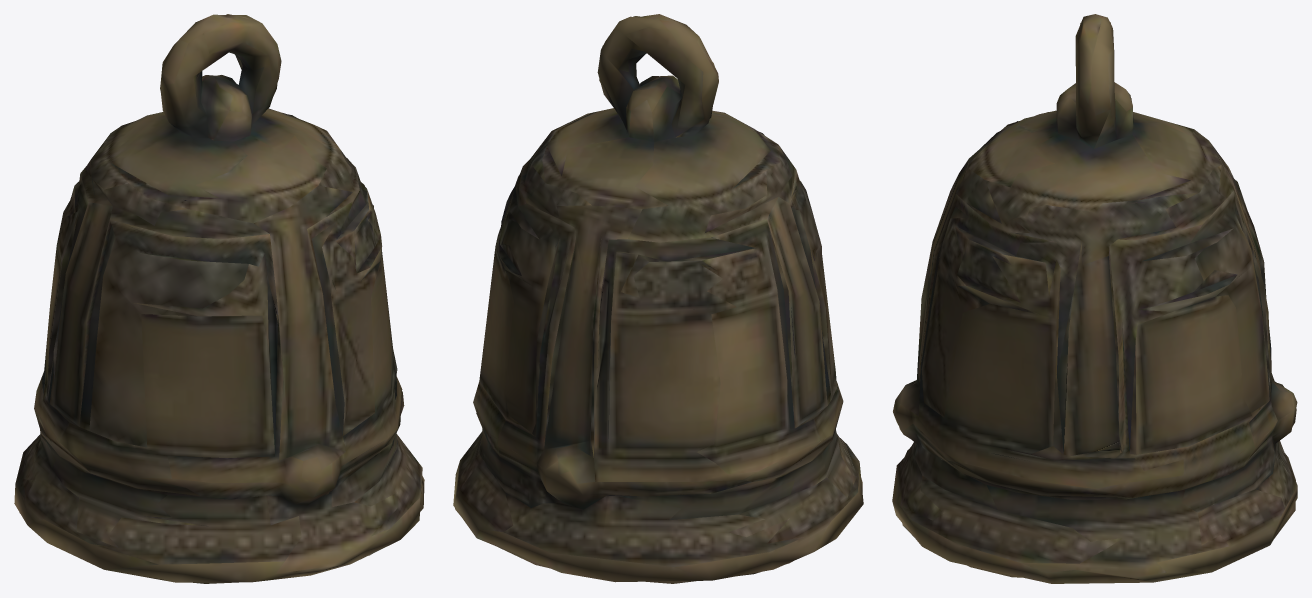
The model's file is chuong.glb.
3 views of the same model, side by side, from view 1: azimuth 30°, elevation 25°; view 2: azimuth 150°, elevation 25°; view 3: azimuth 270°, elevation 25° (orthographic).
Size of the model in its own units: 0.5326 by 0.7 by 0.5348.
1 material, 1 textured.
